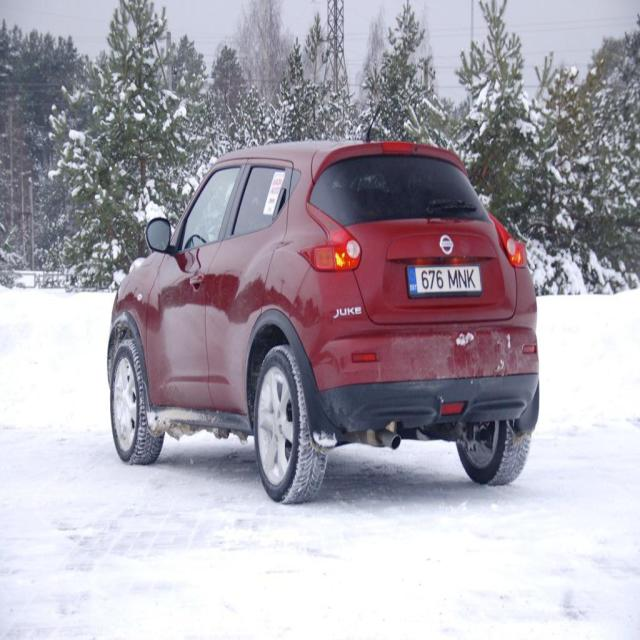car: (103, 126, 550, 501)
